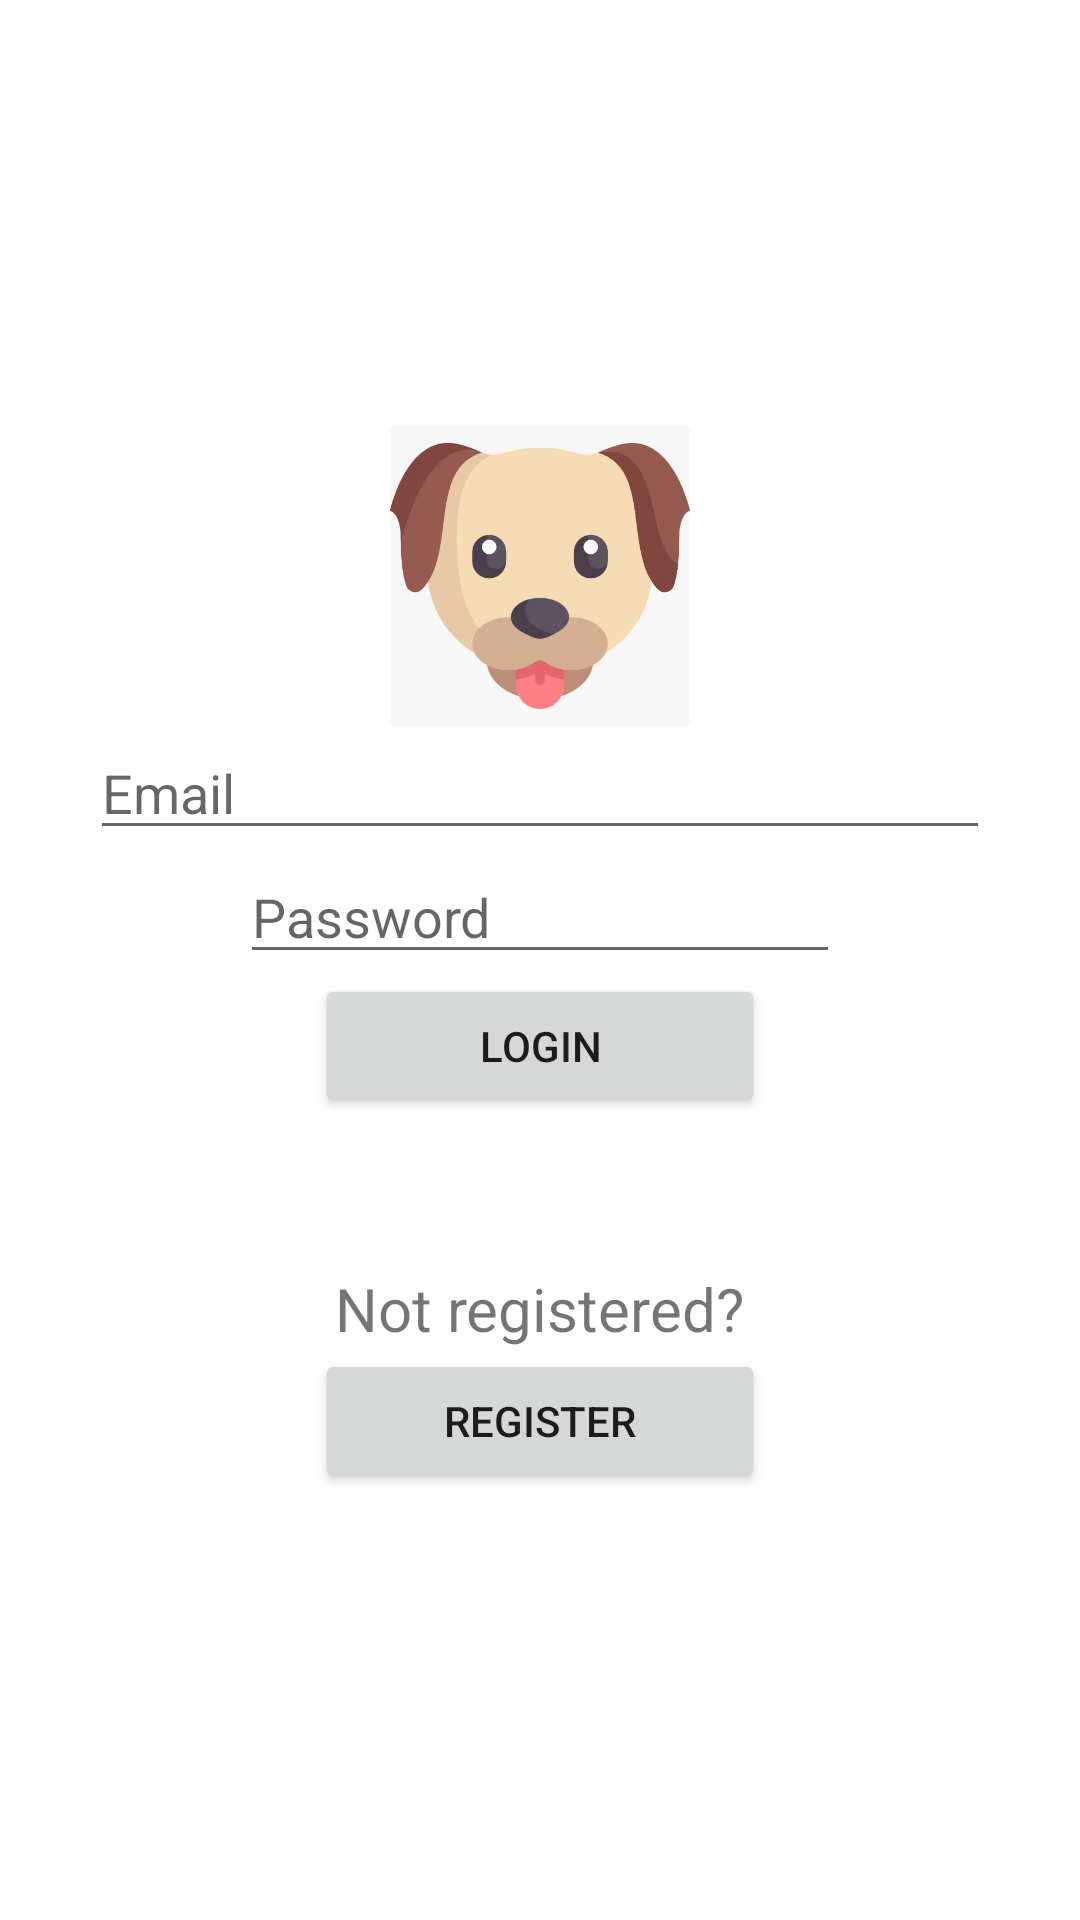

Icons on this 1080 × 1920 Android screen, each with its box as (x1, y1, x2, y2):
dog: (390, 443, 690, 709)
